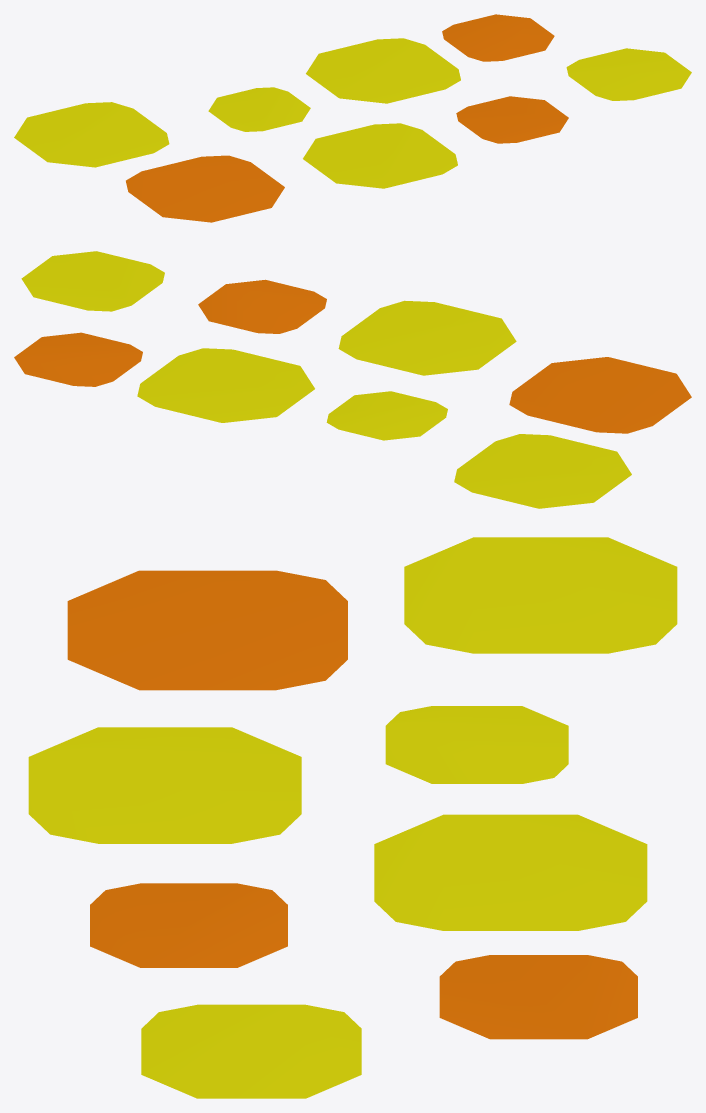
The model's file is PathLow.fbx.
3 views of the same model, one above another, from view 1: azimuth 30°, elevation 25°; view 2: azimuth 150°, elevation 25°; view 3: azimuth 270°, elevation 25° (orthographic). The views are drawn at different scales.
Visible parts, largest first — view 1: Orange2; view 2: Orange2; view 3: Orange2.
Part boxes in pixels (<box>): Orange2: <box>14,14,691,222</box>; Orange2: <box>14,251,691,508</box>; Orange2: <box>28,537,677,1098</box>.
Size of the model in its own units: 5.13 by 0.0132 by 2.51.
